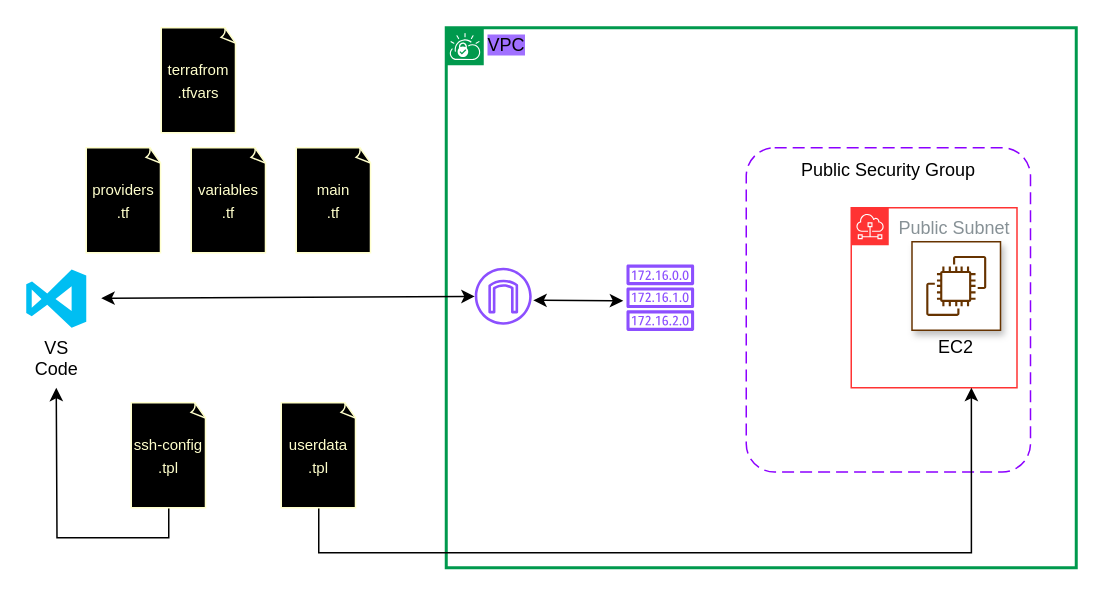
Some shapes in this 1103 by 594 pixel diagram are drawn without their labels. The shapes that lost their labels are listed below. From the top down, each one's centre as x and y in pixels, then its label:
At pixel 502 295: "Internet Gateway".
At pixel 660 297: "Public Route Table".
